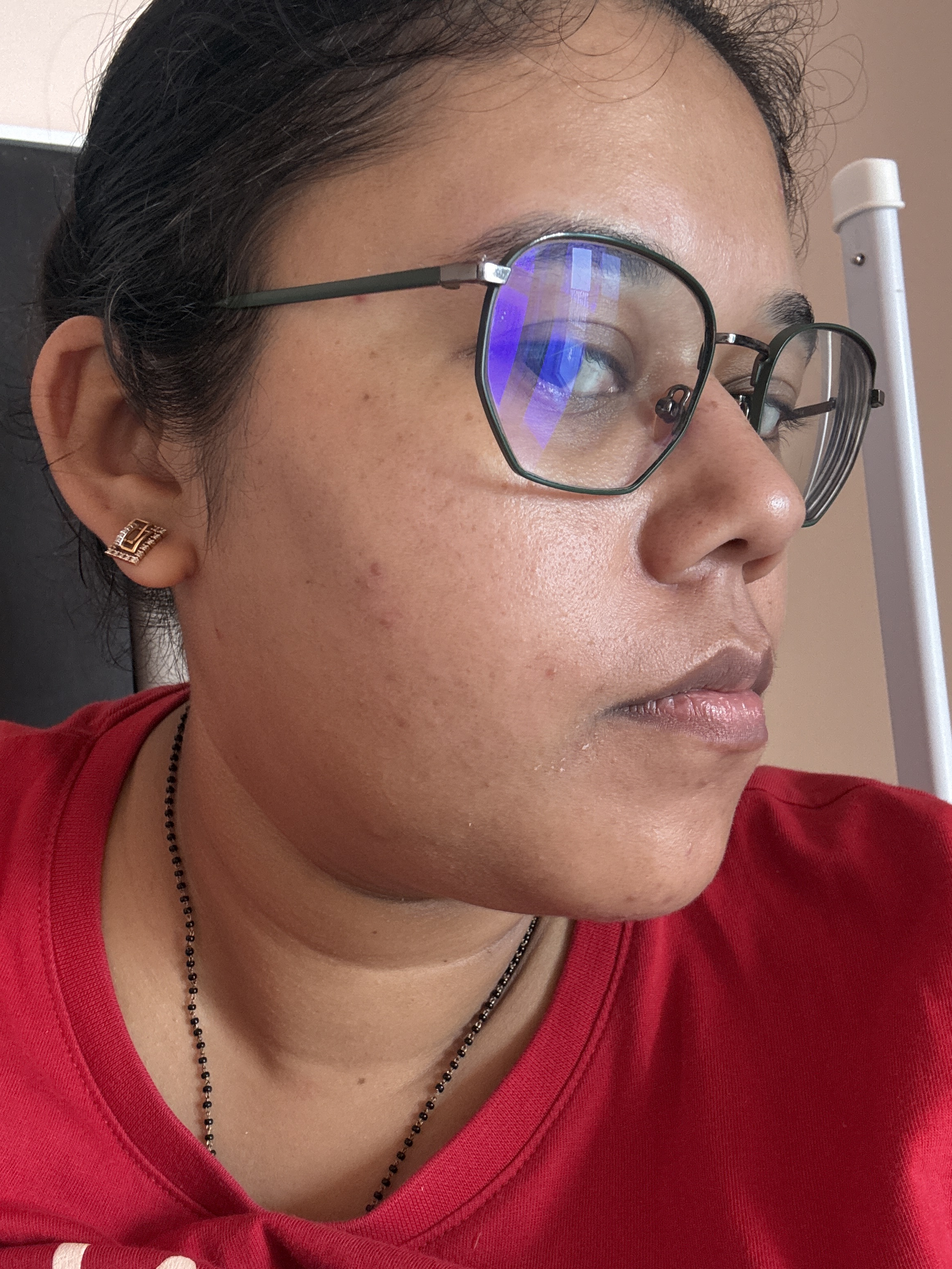closed_comedone: (569, 108, 656, 147), (621, 94, 628, 99), (681, 104, 686, 110), (576, 83, 580, 88)
open_comedone: (722, 470, 765, 520), (645, 517, 688, 558), (711, 440, 759, 469), (765, 471, 784, 493)
papule: (378, 611, 401, 628), (368, 561, 390, 578), (361, 578, 384, 594), (545, 666, 559, 679)
